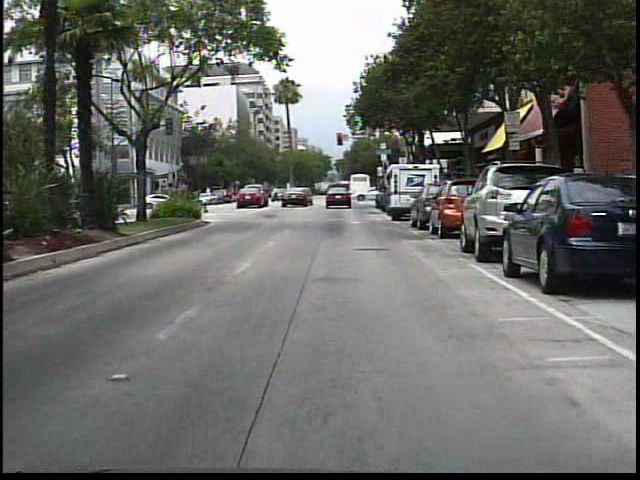person: (269, 181, 283, 206), (286, 183, 300, 205)
